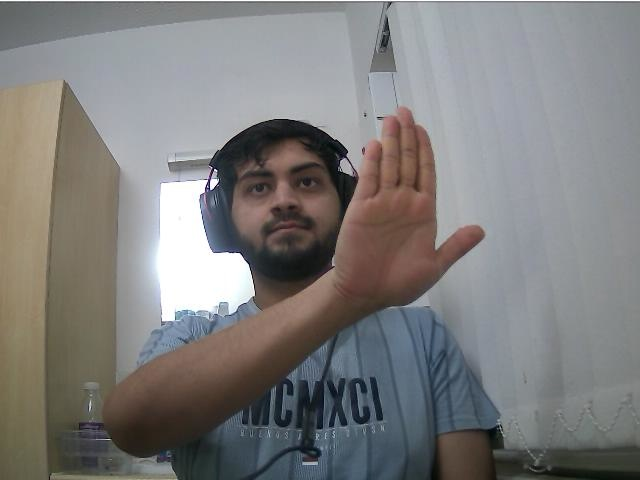up: (333, 107, 440, 310)
